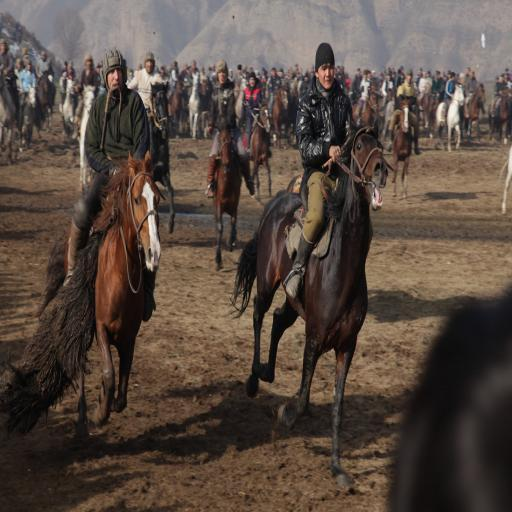horse: (226, 114, 390, 492), (60, 63, 486, 156), (30, 148, 164, 427), (385, 290, 512, 512), (213, 122, 244, 274), (246, 100, 272, 202), (0, 60, 24, 170), (390, 96, 414, 203), (487, 84, 512, 144), (38, 70, 56, 130), (497, 146, 512, 216), (23, 82, 37, 144)
